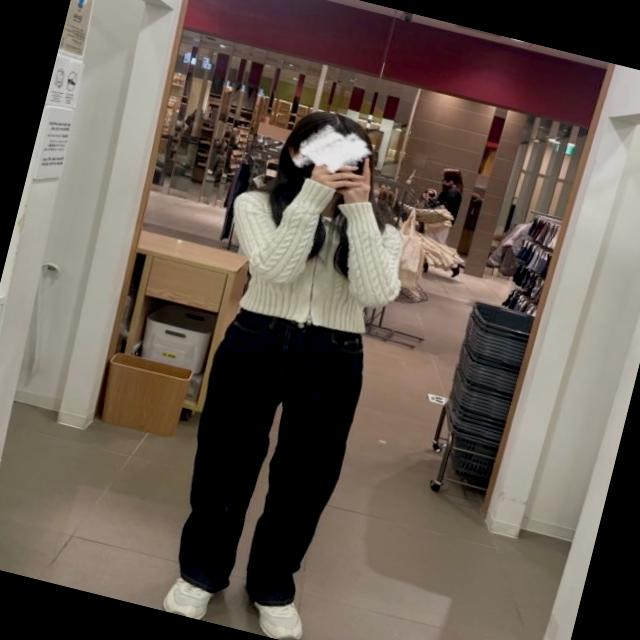cardigan: (206, 162, 424, 346)
denimpants: (154, 298, 378, 616)
